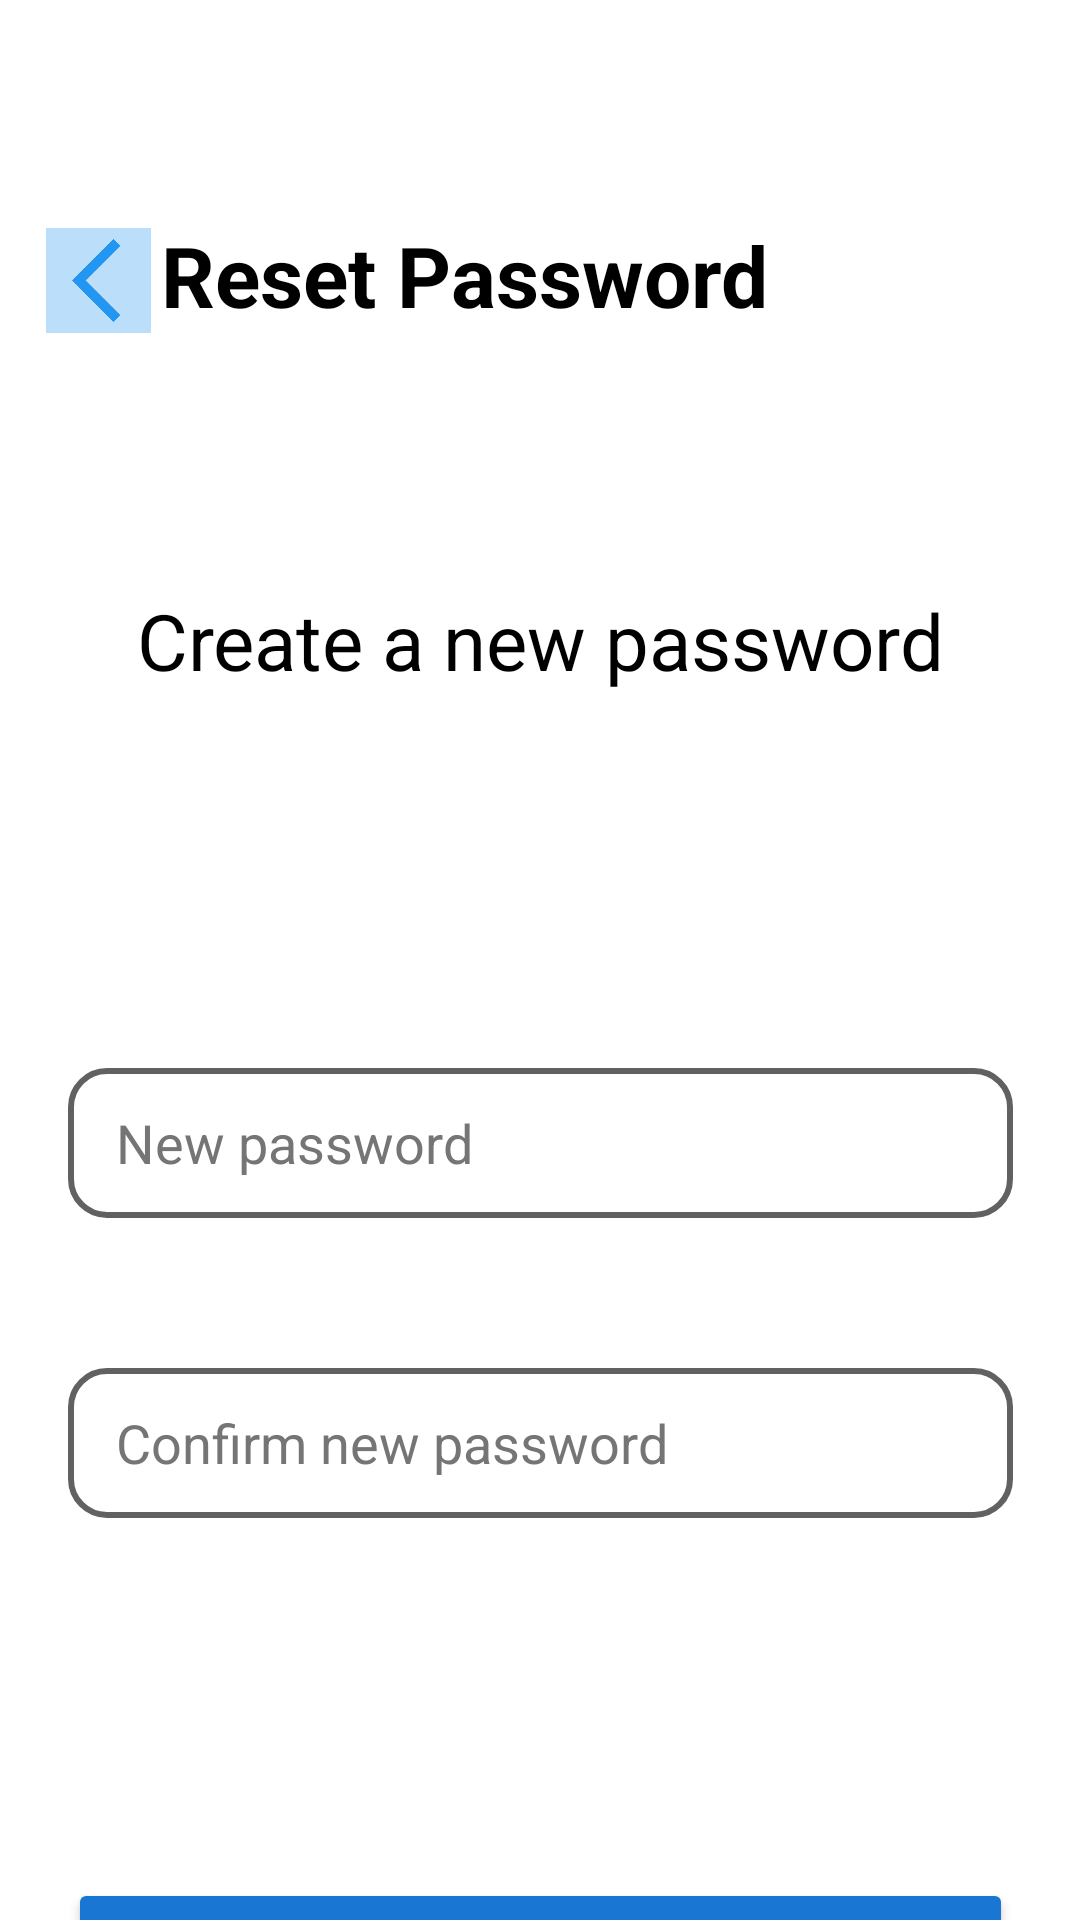

Where icons sit on this 1080px×1920px app screen, as (x1, y1, x2, y2):
comeback: (46, 228, 151, 333)
